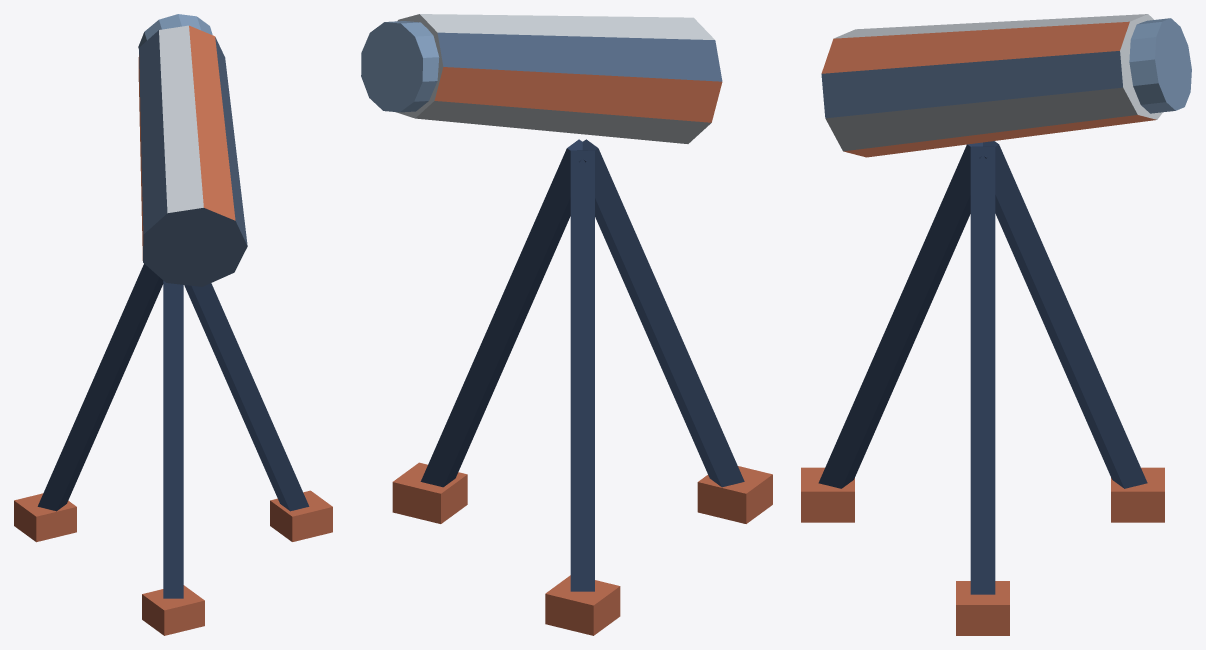
File: ridge-telescope.glb
3 views of the same model, side by side, from view 1: azimuth 30°, elevation 25°; view 2: azimuth 150°, elevation 25°; view 3: azimuth 270°, elevation 25° (orthographic). The views are drawn at different scales.
Visible parts, largest first — view 1: ridge-telescope; view 2: ridge-telescope; view 3: ridge-telescope.
Boxes of the visible parts, x1=… form: ridge-telescope: x1=14, y1=14, x2=332, y2=635; ridge-telescope: x1=361, y1=14, x2=772, y2=635; ridge-telescope: x1=801, y1=14, x2=1191, y2=635.
Size of the model in its own units: 1.15 by 2.22 by 1.38.
